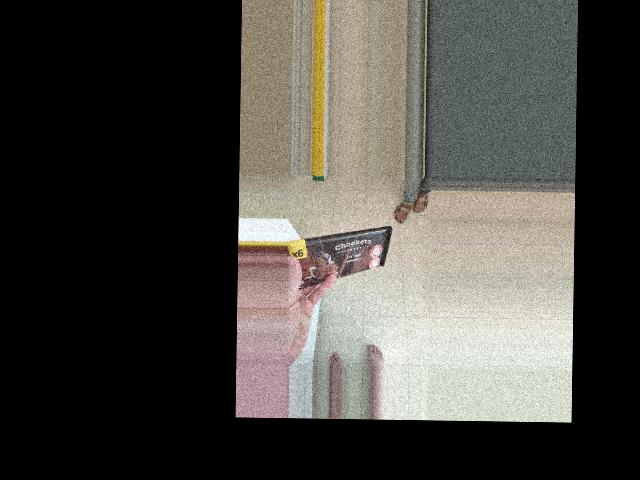chocolate: (285, 216, 394, 304)
